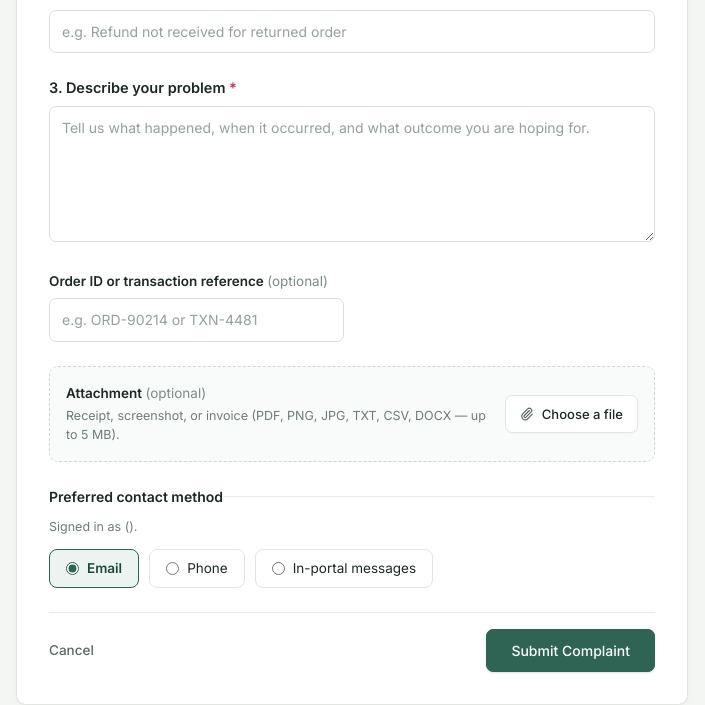
Test case: QRYVANTA Customer Portal Redesign › validates simplified complaint form and shows calm confirmation after submission
The width and height of the screenshot is (705, 705).
(page scrolled)
Validate empty submit
Click the button "Submit Complaint" at (571, 650), box [486,628,655,672]
(page scrolled)
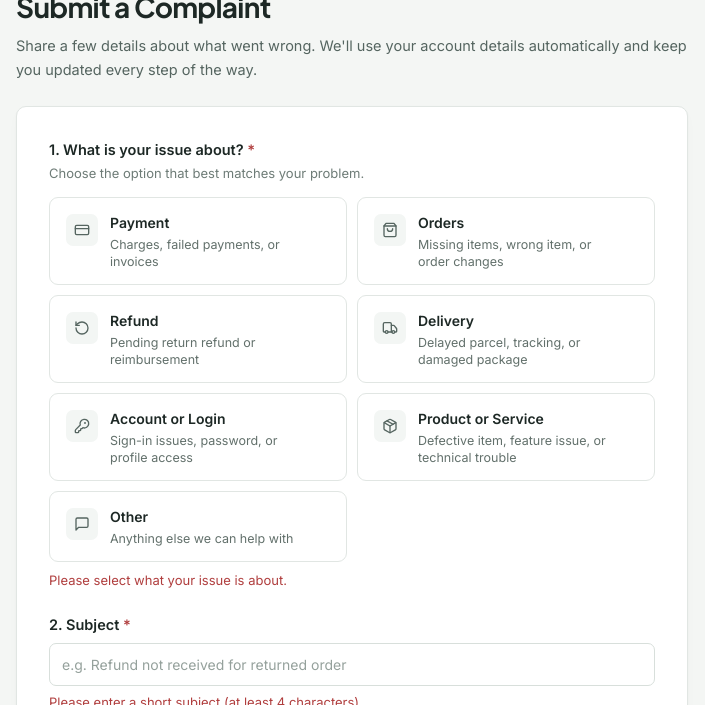
Expected: the text "Please select what your issue is about." is shown, [49,572,287,588]
Complete simplified form
Click the button "Refund Pending return refund or reimbursement" at (198, 339), box [49,295,347,383]
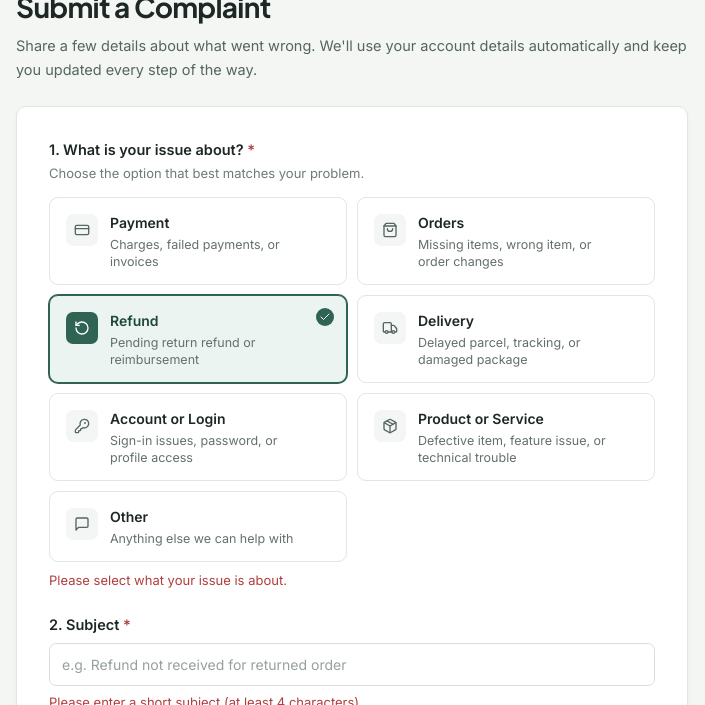
Type "Refund not received for returned shoes" into the field labelled "2. Subject *" at (352, 665), box [49,643,655,686]
(page scrolled)
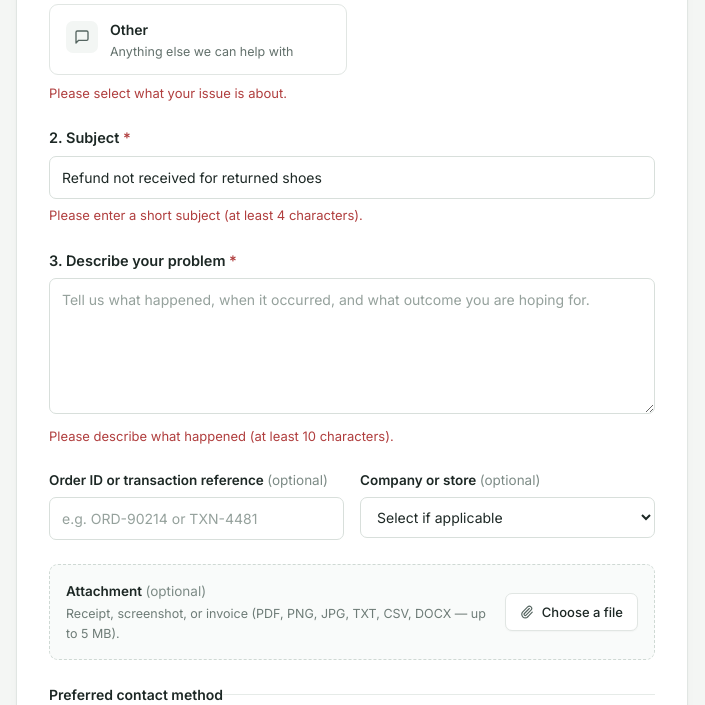
Replace the text in the text box labelled "3. Describe your problem *" with "Returned the order last week and still waiting for my refund." at (352, 346), box [49,278,655,414]
(page scrolled)
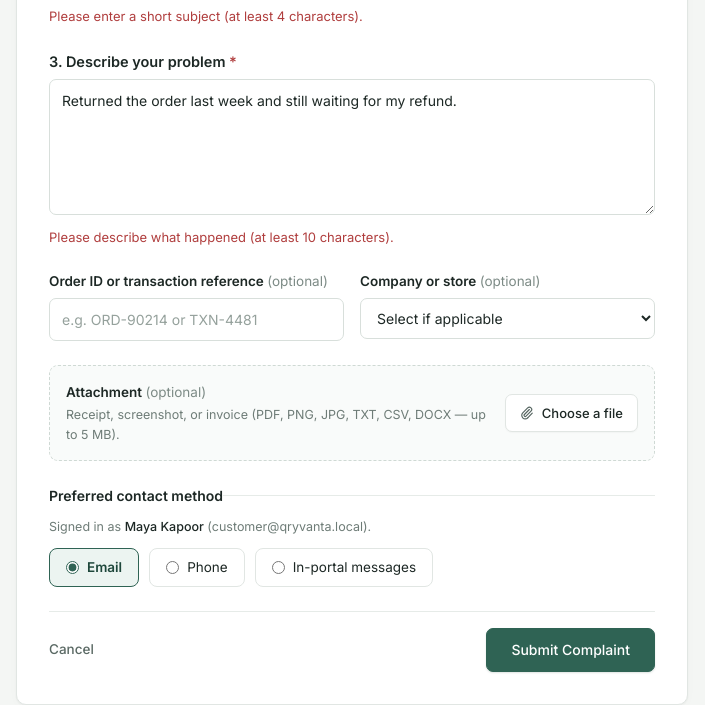
Click the button "Submit Complaint" at (571, 650), box [486,628,655,672]
(page scrolled)
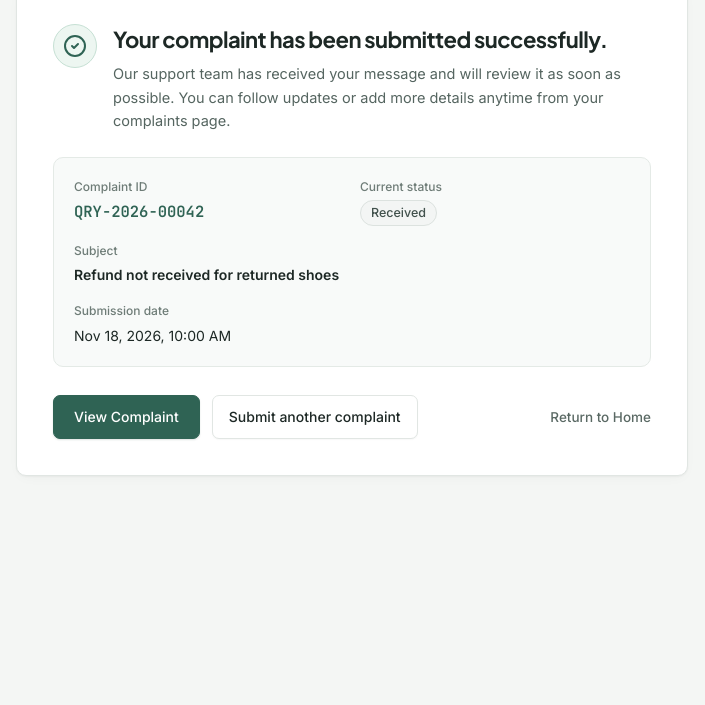
Expected: the heading "Your complaint has been submitted successfully." is shown, [113,22,651,56]
Expected: the text "QRY-2026-00042" is shown, [74,201,204,222]
Expected: the text "Received" is shown, [360,200,437,226]
